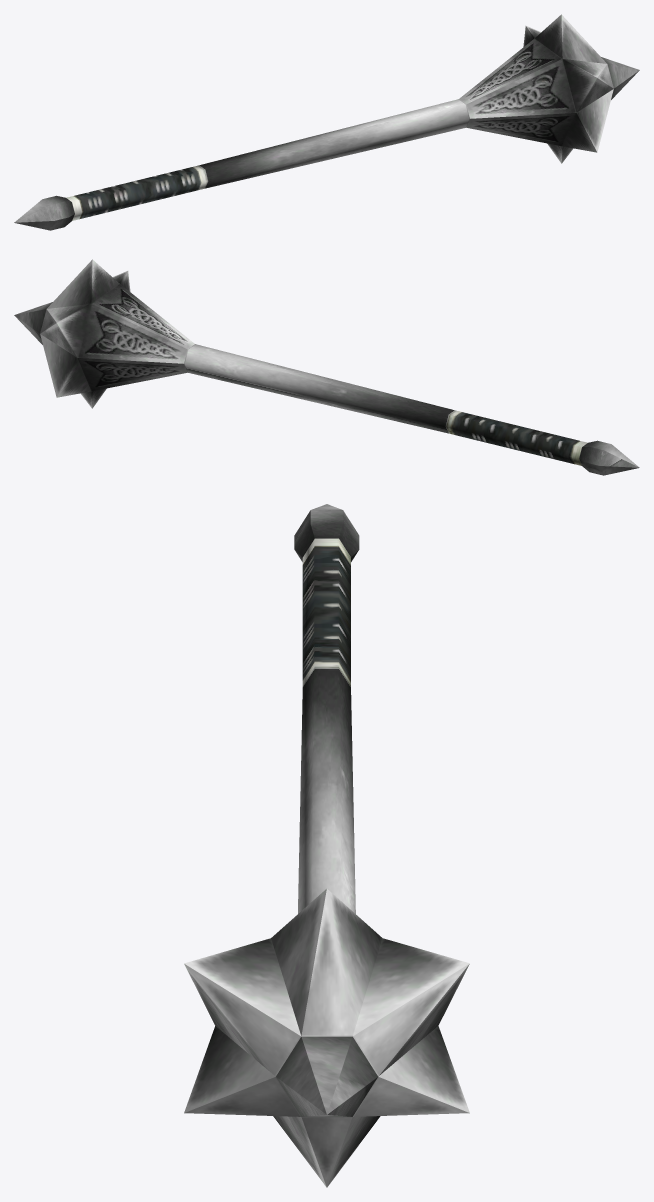
3 views of the same model, one above another, from view 1: azimuth 30°, elevation 25°; view 2: azimuth 150°, elevation 25°; view 3: azimuth 270°, elevation 25° (orthographic). The views are drawn at different scales.
Visible parts, largest first — view 1: it10609; view 2: it10609; view 3: it10609.
Boxes of the visible parts, x1,y1,x2,y2 form: it10609: (14, 14, 639, 230); it10609: (14, 259, 639, 475); it10609: (184, 504, 469, 1187).
Size of the model in its own units: 3 by 0.6854 by 0.5938.
3 materials, 3 textured.
